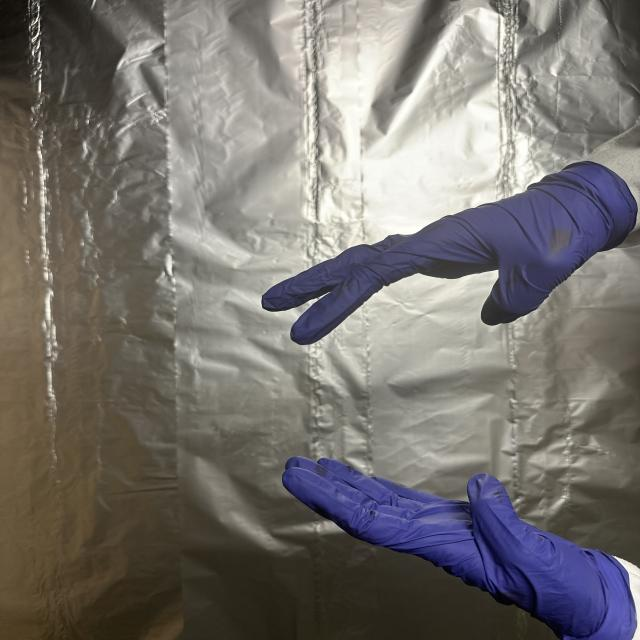gloves_contaminated: (262, 162, 637, 344), (283, 457, 636, 640)
